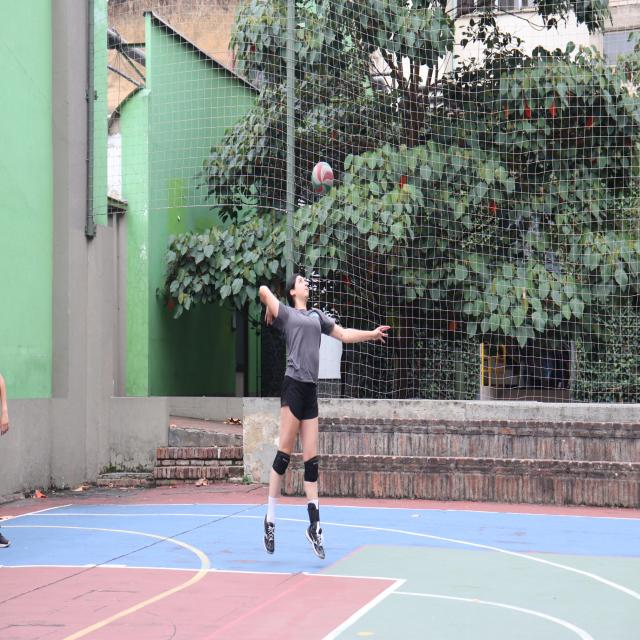volleyball: (312, 160, 334, 194)
